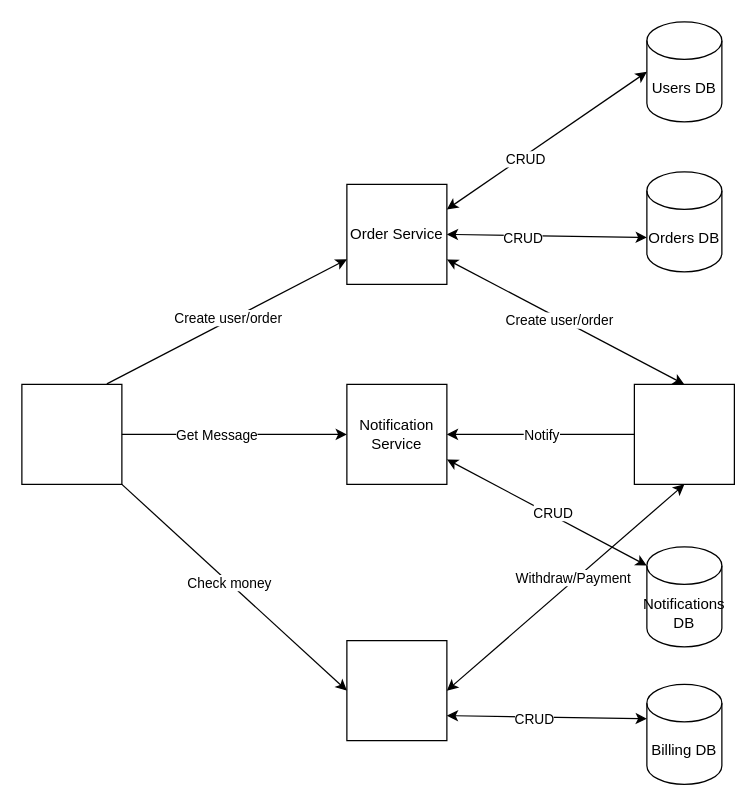
Image size: 756x806. Some labels were removed from this diagram. Each missing label, with the centre of its shape:
"API Gateway (Facade)" goes at point (71, 433).
"Billing Service" goes at point (396, 690).
"MQ" goes at point (683, 433).
